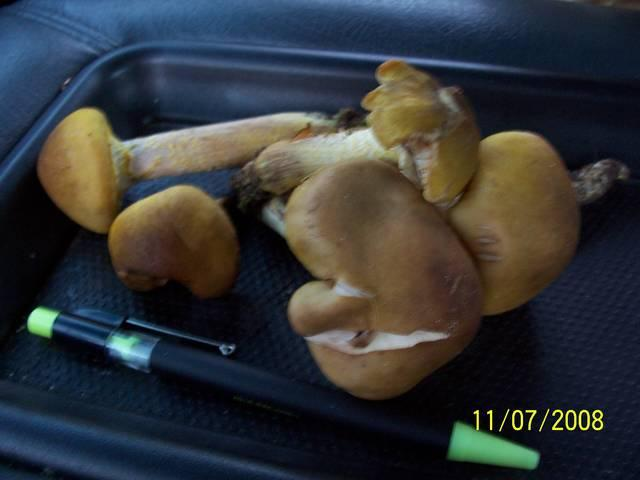Edible Mushroom: (35, 57, 628, 400), (277, 157, 484, 400)
